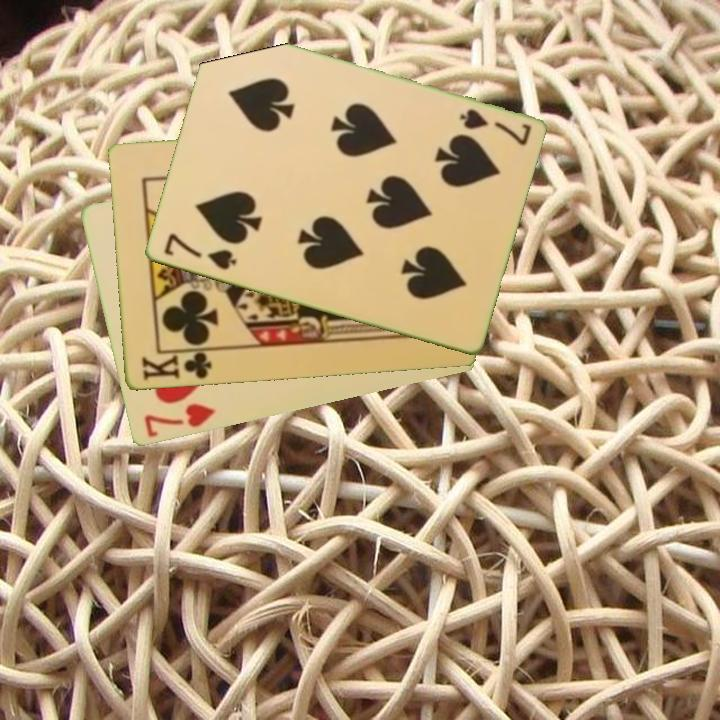7h: (140, 400, 219, 441)
7s: (159, 230, 239, 274), (455, 105, 534, 149)
Kc: (138, 346, 216, 384)
